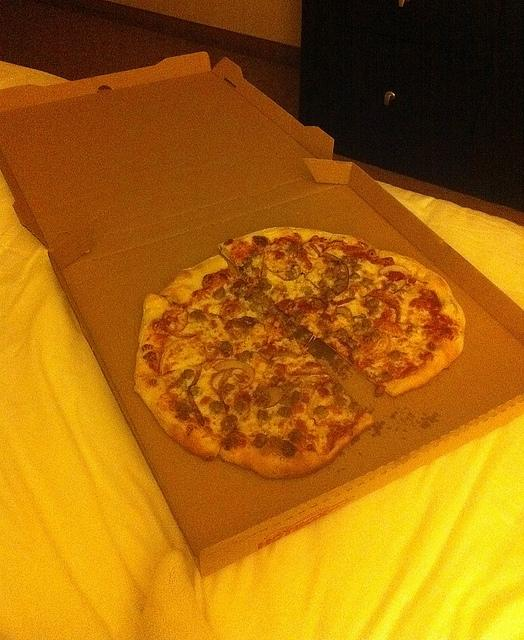onion: (362, 289, 400, 324), (320, 252, 350, 296), (213, 359, 256, 389), (188, 390, 204, 426), (210, 369, 231, 395), (379, 264, 413, 276), (166, 327, 198, 338), (328, 296, 356, 306), (336, 306, 353, 318), (383, 334, 392, 354)
